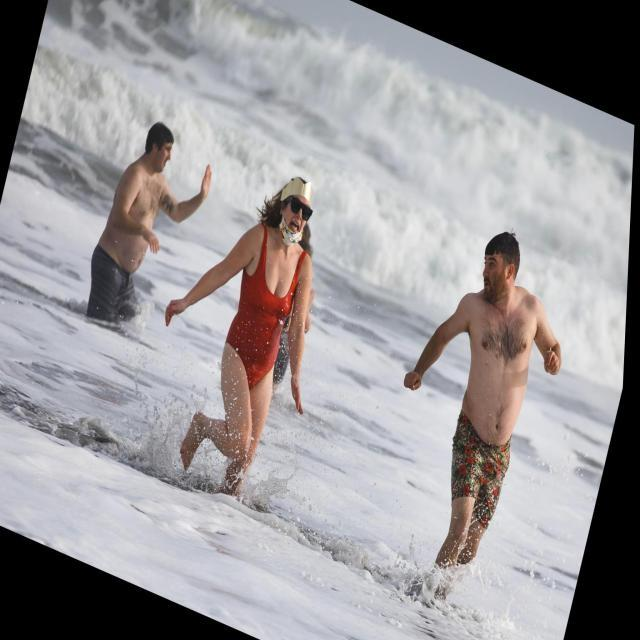hairnet: (278, 190, 312, 246)
